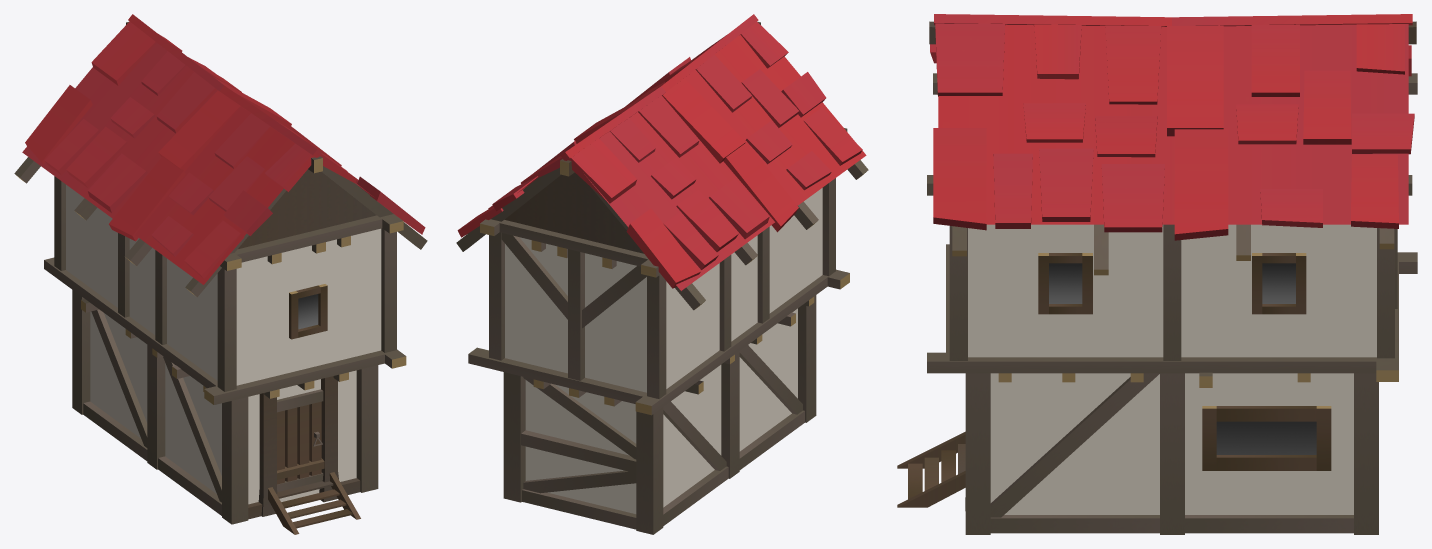
File: House_2.fbx
The picture shows the model from 3 angles, left to right: view 1: azimuth 30°, elevation 25°; view 2: azimuth 150°, elevation 25°; view 3: azimuth 270°, elevation 25°; orthographic projection. The views are drawn at different scales.
Parts seen in each view (by area): view 1: polySurface9611; view 2: polySurface9611; view 3: polySurface9611.
Boxes of the visible parts, x1,y1,x2,y2 form: polySurface9611: [14, 14, 427, 534]; polySurface9611: [456, 14, 868, 534]; polySurface9611: [897, 14, 1417, 534].
Bounding box in the file's own units: 585 × 809 × 804.
